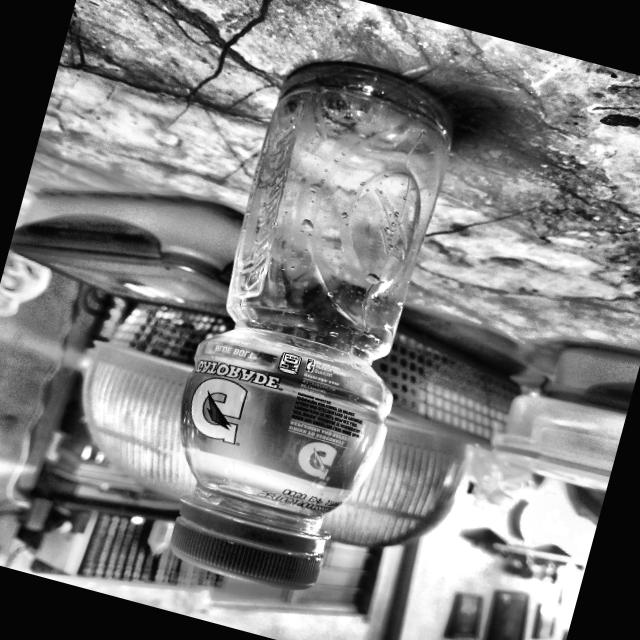Plastic-Bottle: (135, 38, 479, 610)
